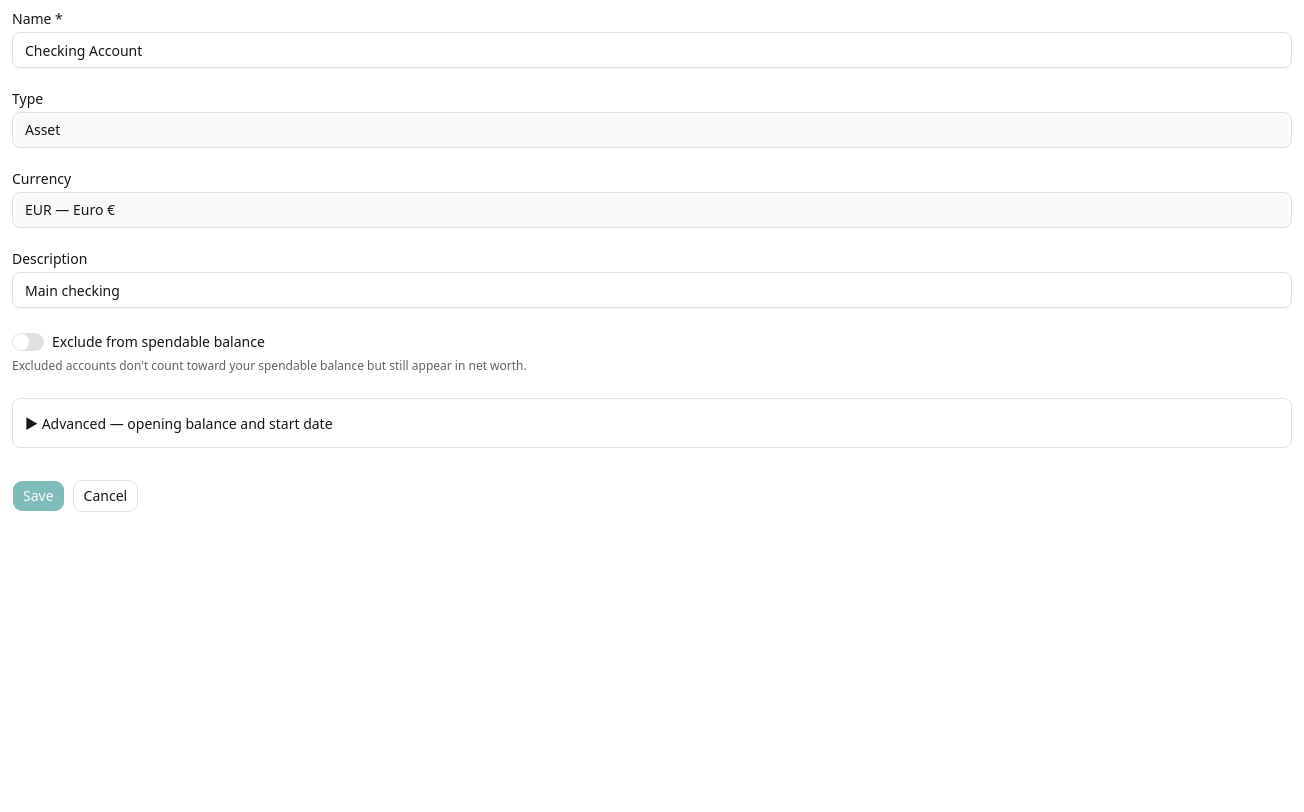
Test: AccountForm › Expanding the Advanced disclosure on Edit reveals opening balance + start date
The image size is (1304, 812).
Click the button "▶ Advanced — opening balance and start date". click: [185, 424]
box: left=25, top=414, right=1279, bottom=434
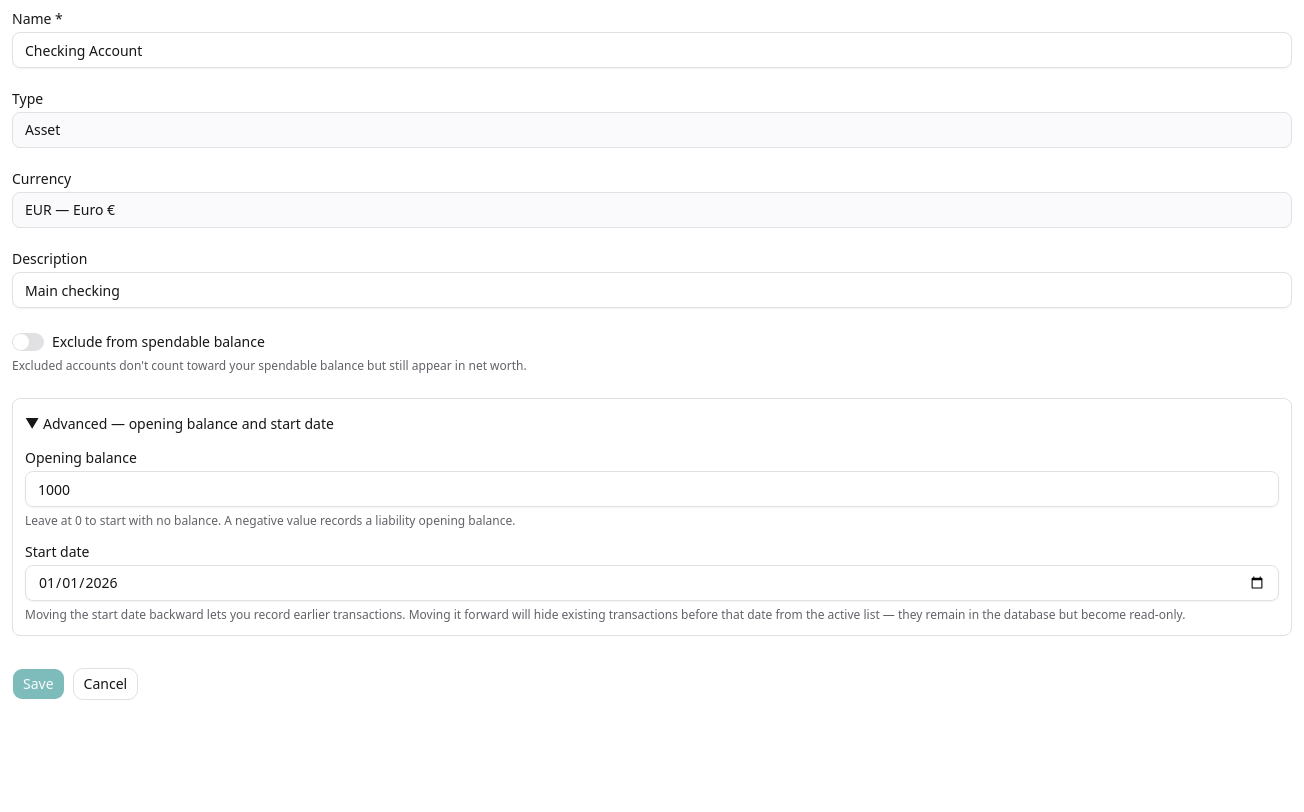
Check: the number field labelled "Opening balance" is shown, box left=25, top=471, right=1279, bottom=507
Check: the date field labelled "Start date" is shown, box left=25, top=565, right=1279, bottom=601
